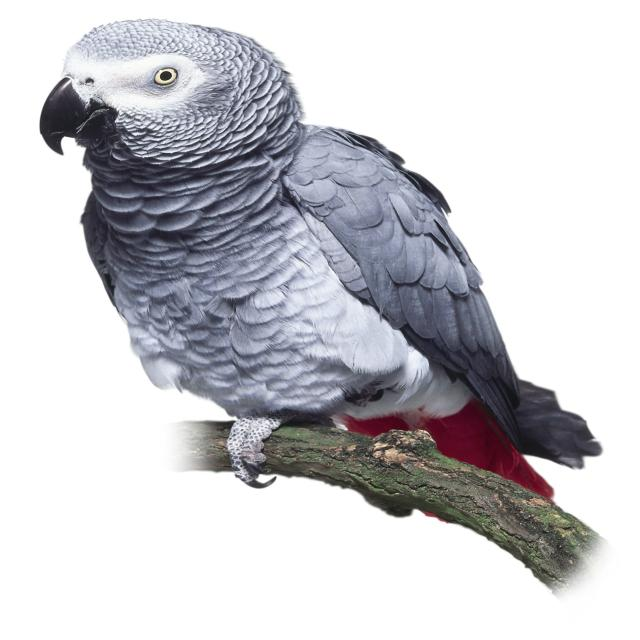parrot: (40, 20, 600, 498)
